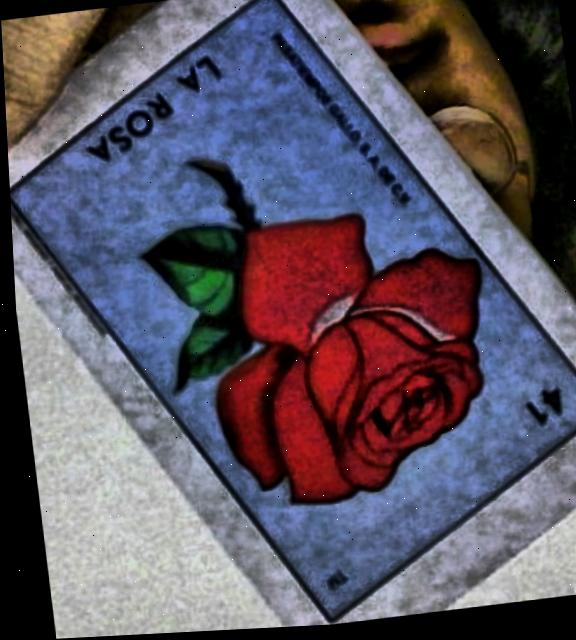La Rosa: (8, 0, 576, 622)
